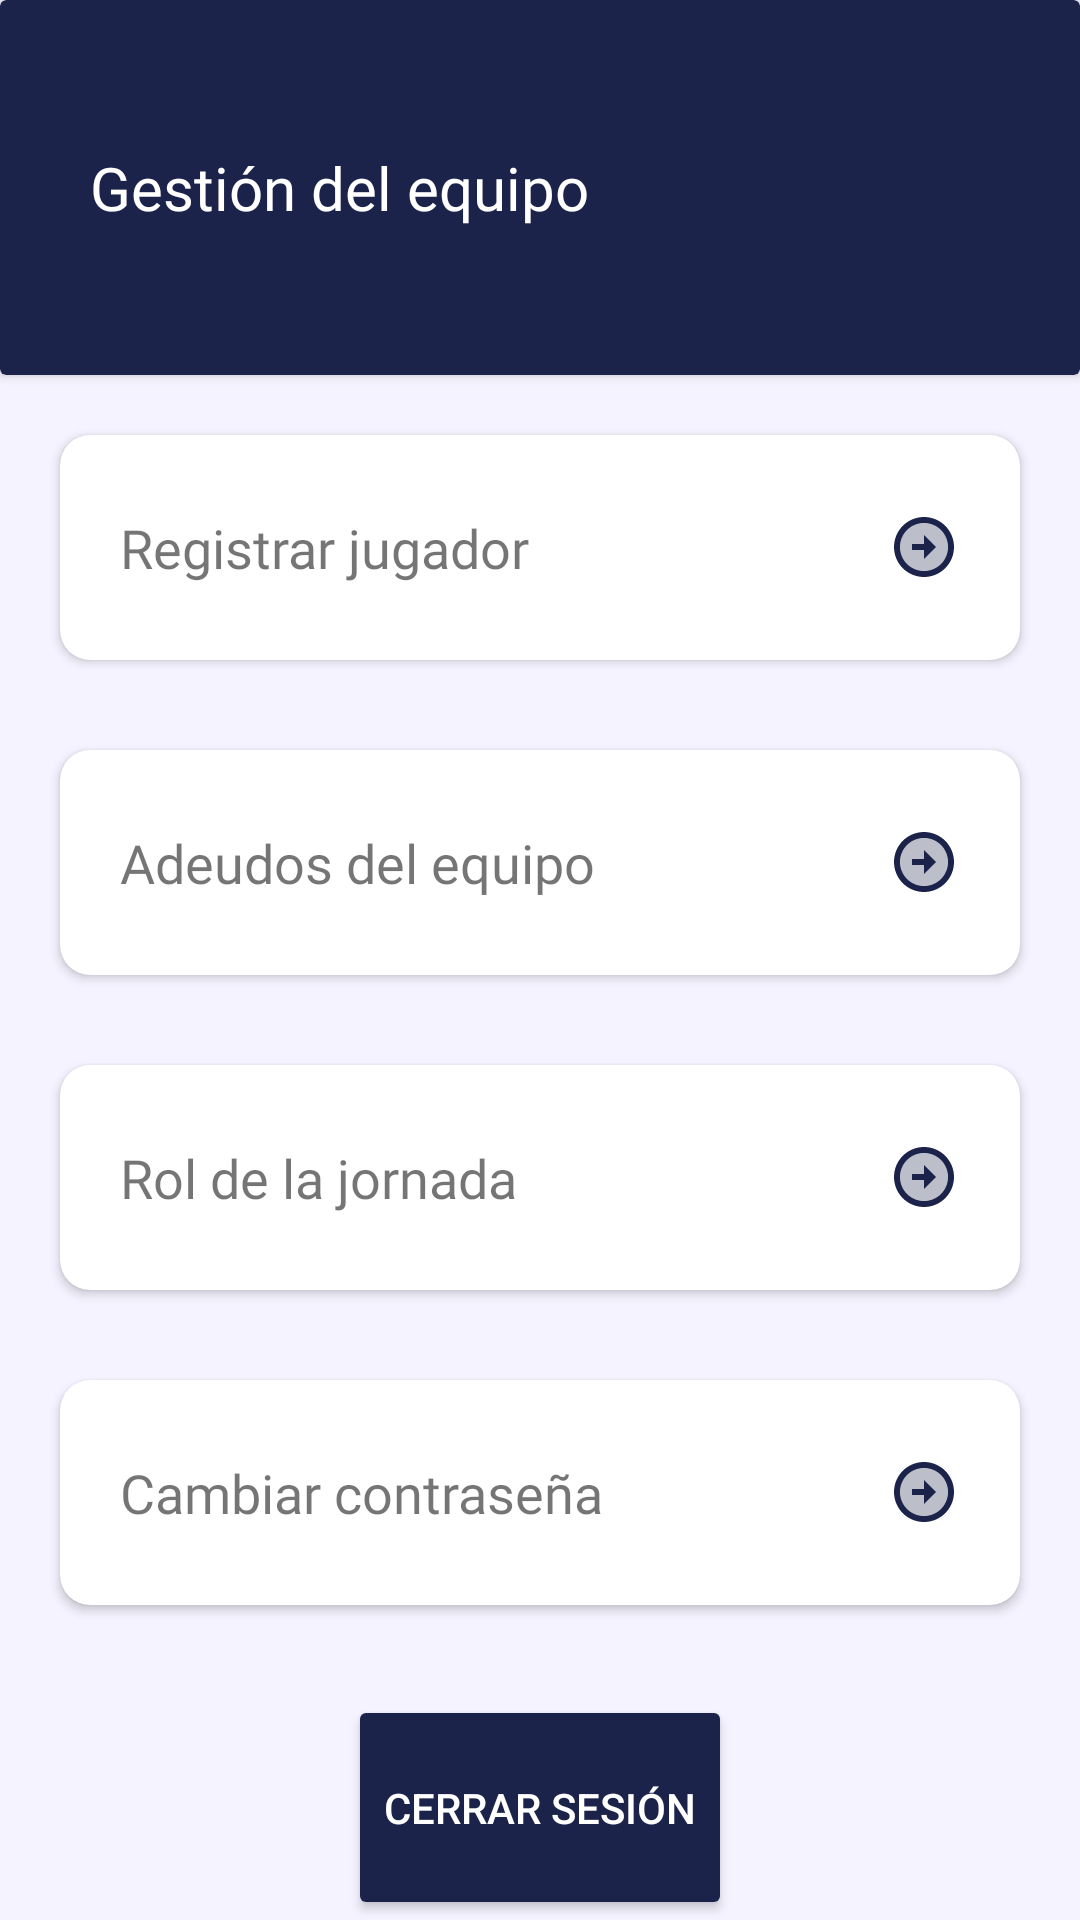

Where icons sit on this 1080w x 1920h app screen, as BBox(x1, y1, x2, y2):
arrow circle right: BBox(894, 517, 954, 577), BBox(894, 832, 954, 892), BBox(894, 1147, 954, 1207), BBox(894, 1462, 954, 1522)
